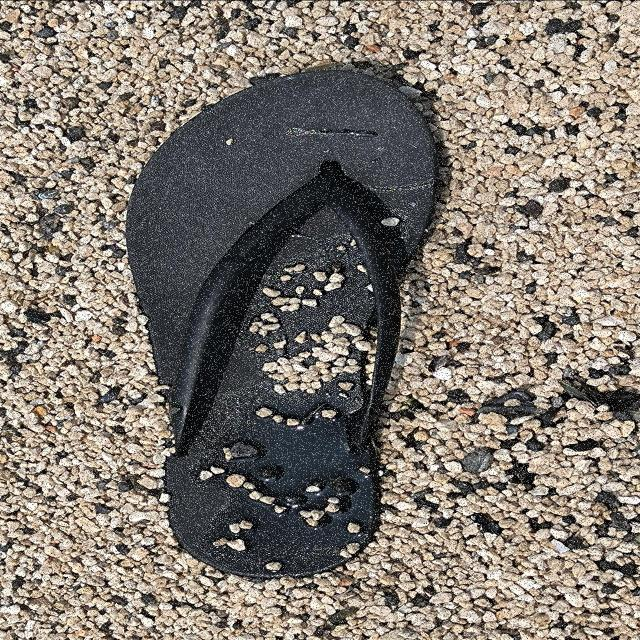rubber_waste: (124, 70, 443, 578)
